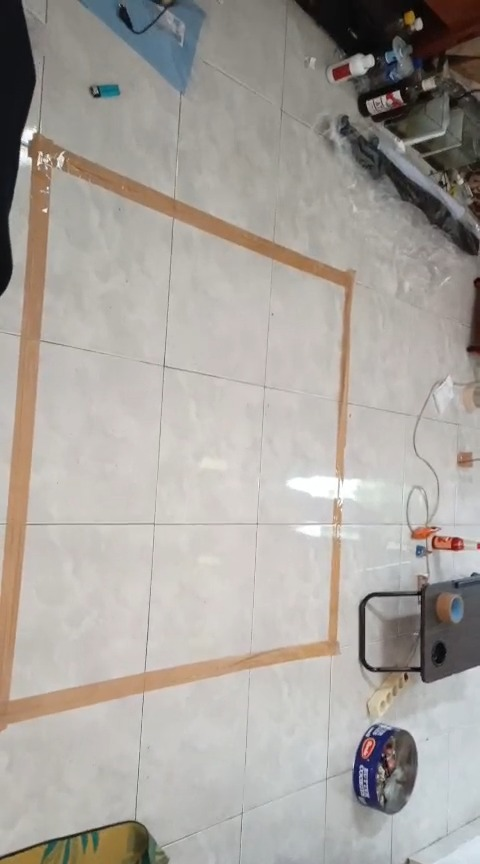floor marking: (0, 134, 354, 730)
